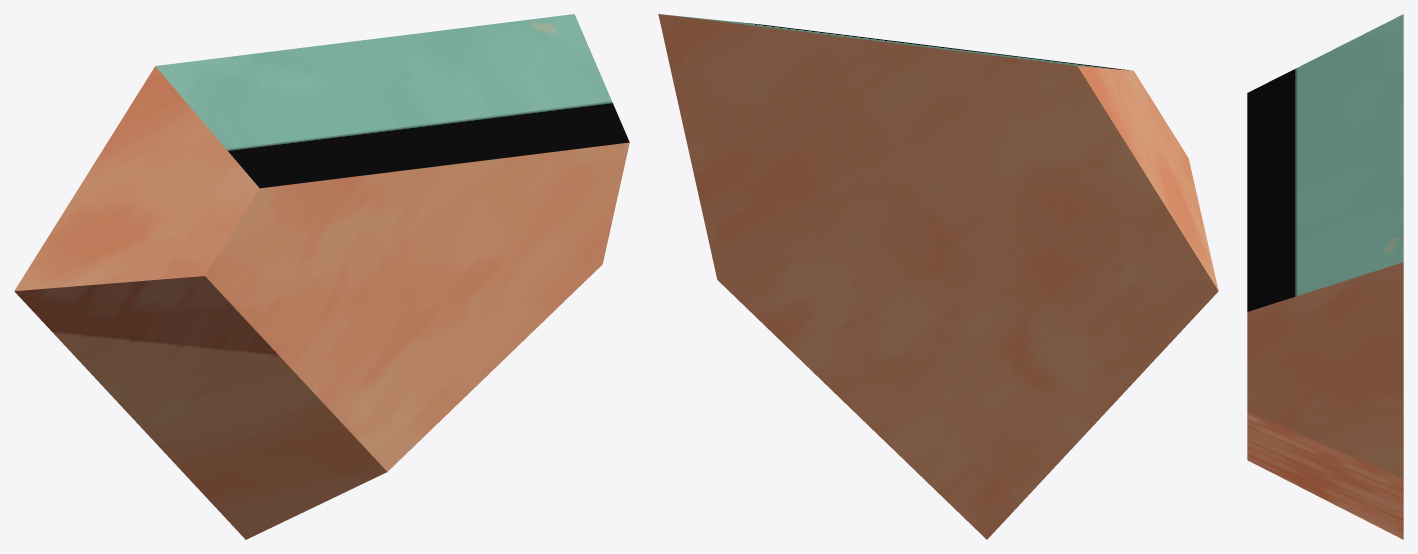
Rendered from wall_plain_s07.fbx.
The picture shows the model from 3 angles, left to right: view 1: azimuth 30°, elevation 25°; view 2: azimuth 150°, elevation 25°; view 3: azimuth 270°, elevation 25°; orthographic projection. The views are drawn at different scales.
Visible parts, largest first — view 1: wall_plain_s07; view 2: wall_plain_s07; view 3: wall_plain_s07.
Boxes of the visible parts, <box> form: wall_plain_s07: <box>14,14,629,539</box>; wall_plain_s07: <box>658,14,1218,539</box>; wall_plain_s07: <box>1247,14,1403,539</box>.
Size of the model in its own units: 4.03 by 3.41 by 1.
